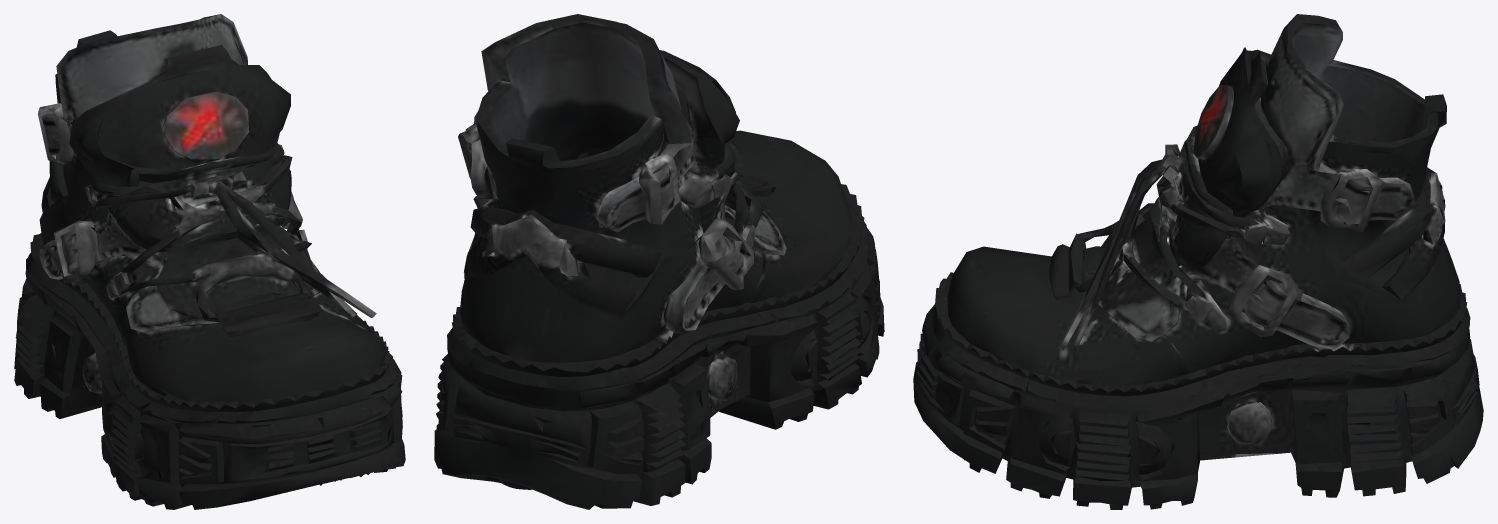
File: boot-left.glb
The picture shows the model from 3 angles, left to right: view 1: azimuth 30°, elevation 25°; view 2: azimuth 150°, elevation 25°; view 3: azimuth 270°, elevation 25°; orthographic projection. The views are drawn at different scales.
Parts seen in each view (by area): view 1: boot; view 2: boot; view 3: boot.
Part boxes in pixels (x1,y1,x2,y2): boot: (14,14,405,509); boot: (434,14,884,509); boot: (913,14,1483,509).
Bounding box in the file's own units: 0.2714 × 0.3629 × 0.459.
1 material, 1 textured.
